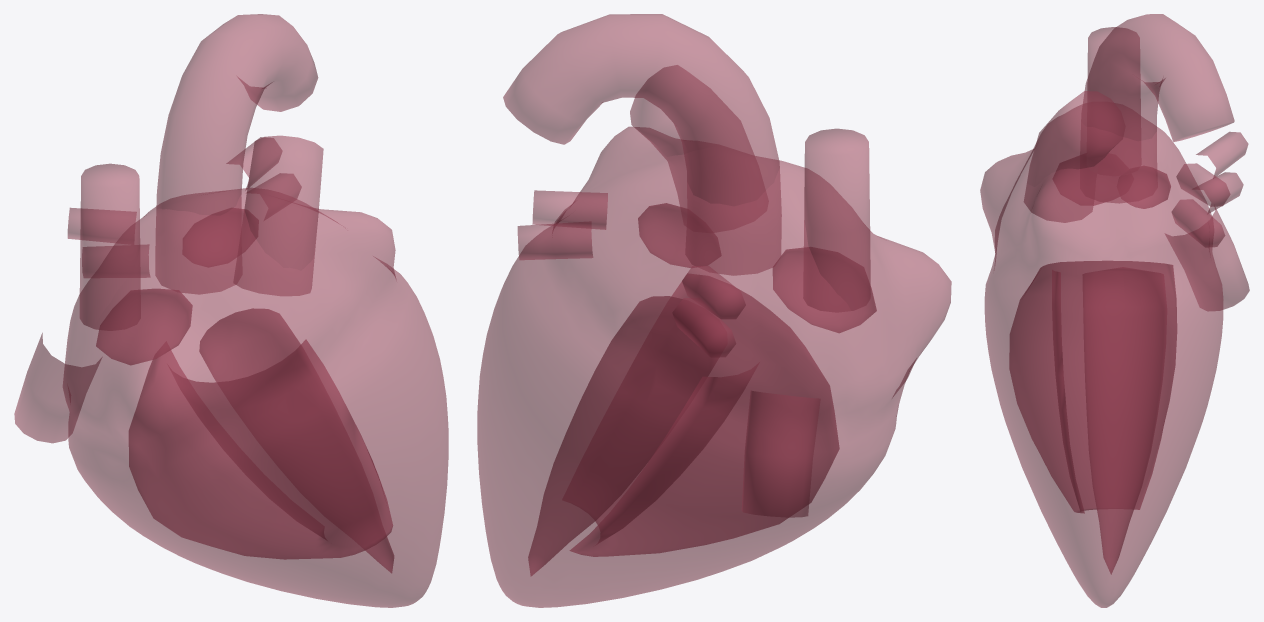
Rendered from s4_heart_full.glb.
3 renders of one model, left to right at view 1: azimuth 30°, elevation 25°; view 2: azimuth 150°, elevation 25°; view 3: azimuth 270°, elevation 25°, orthographic. The views are drawn at different scales.
Parts seen in each view (by area): view 1: heart; view 2: heart; view 3: heart.
Boxes of the visible parts, <box> form: heart: <box>14,14,448,607</box>; heart: <box>477,14,951,607</box>; heart: <box>980,14,1249,607</box>.
Bounding box in the file's own units: 1.63 × 2.5 × 1.16.
